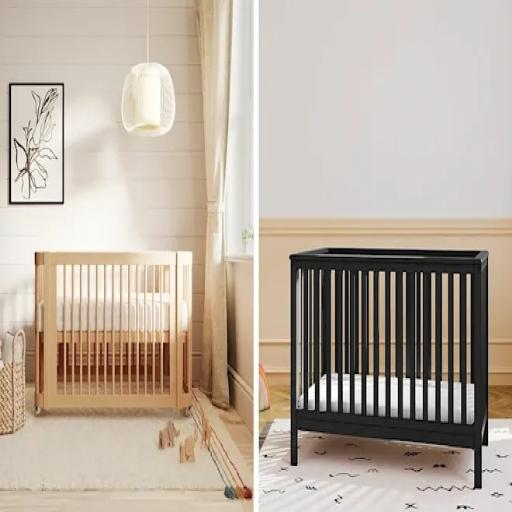crib: (291, 249, 487, 488), (35, 252, 192, 411)
